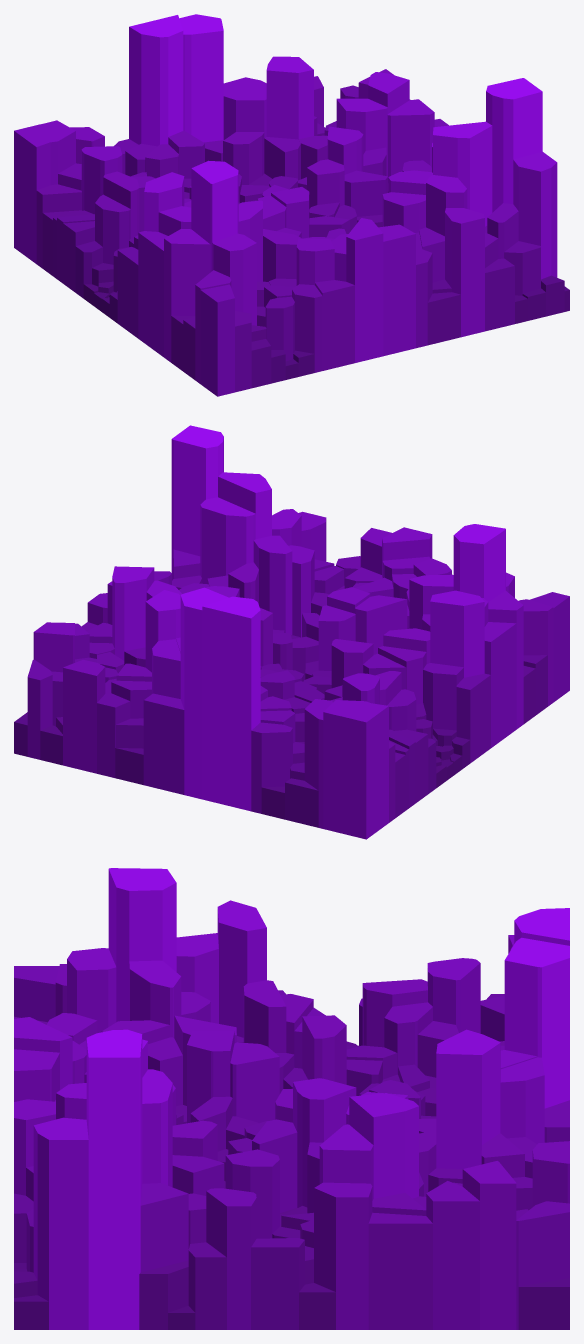
The model's file is VTOWNpu.fbx.
The picture shows the model from 3 angles, top to bottom: view 1: azimuth 30°, elevation 25°; view 2: azimuth 150°, elevation 25°; view 3: azimuth 270°, elevation 25°; orthographic projection. The views are drawn at different scales.
Parts seen in each view (by area): view 1: オブジェクト_251, オブジェクト_103, オブジェクト_214, オブジェクト_205, オブジェクト_207, オブジェクト_100, オブジェクト_177, オブジェクト_6, オブジェクト_211, オブジェクト_51, オブジェクト_206, オブジェクト_69 (+57 smaller); view 2: オブジェクト_251, オブジェクト_51, オブジェクト_103, オブジェクト_214, オブジェクト_159, オブジェクト_276, オブジェクト_179, オブジェクト_147, オブジェクト_230, オブジェクト_244, オブジェクト_200, オブジェクト_40 (+56 smaller); view 3: オブジェクト_103, オブジェクト_207, オブジェクト_214, オブジェクト_211, オブジェクト_37, オブジェクト_154, オブジェクト_230, オブジェクト_162, オブジェクト_58, オブジェクト_200, オブジェクト_161, オブジェクト_159 (+55 smaller).
Part boxes in pixels (x1,y1,x2,y2): オブジェクト_251: (129,15,183,146); オブジェクト_103: (486,78,542,212); オブジェクト_214: (179,14,223,142); オブジェクト_205: (346,218,383,362); オブジェクト_207: (513,151,557,279); オブジェクト_100: (445,208,484,337); オブジェクト_177: (433,121,492,226); オブジェクト_6: (378,224,415,356); オブジェクト_211: (266,56,313,139); オブジェクト_51: (14,124,50,263); オブジェクト_206: (200,284,234,396); オブジェクト_69: (164,229,210,362); オブジェクト_251: (202,596,260,811); オブジェクト_51: (340,703,388,839); オブジェクト_103: (171,425,223,580); オブジェクト_214: (180,587,228,799); オブジェクト_159: (430,590,484,677); オブジェクト_276: (63,659,105,773); オブジェクト_179: (143,693,184,794); オブジェクト_147: (200,497,255,583); オブジェクト_230: (453,524,505,601); オブジェクト_244: (484,622,516,747); オブジェクト_200: (112,566,154,660); オブジェクト_40: (253,535,292,634); オブジェクト_103: (86,1029,142,1329); オブジェクト_207: (33,1117,88,1329); オブジェクト_214: (504,937,569,1108); オブジェクト_211: (436,1029,500,1168); オブジェクト_37: (368,1212,432,1329); オブジェクト_154: (314,1182,372,1329); オブジェクト_230: (108,868,176,1021); オブジェクト_162: (426,1181,479,1329); オブジェクト_58: (462,1161,516,1329); オブジェクト_200: (349,1093,418,1198); オブジェクト_161: (206,1188,256,1329); オブジェクト_159: (217,900,266,1037).
Bounding box in the file's own units: 100 × 100 × 54.
